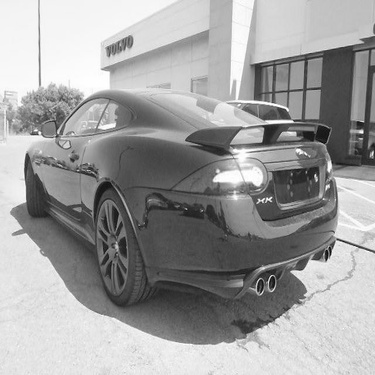car: (13, 83, 343, 309), (343, 117, 373, 167)
